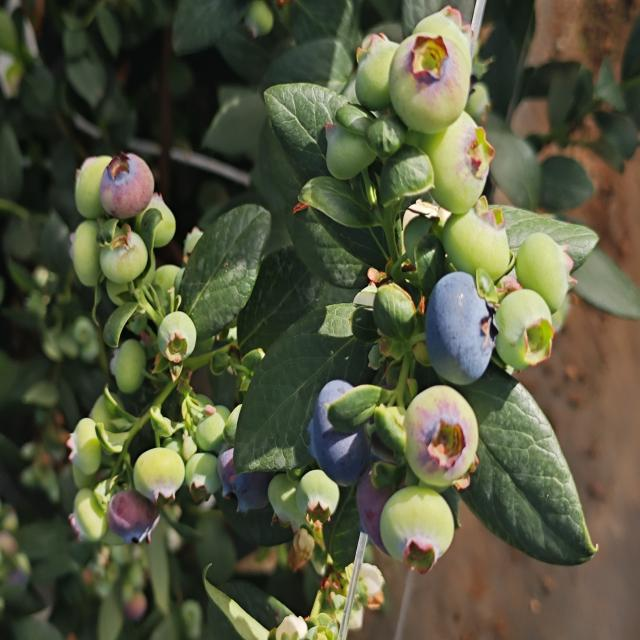ripe: (422, 269, 500, 388), (306, 377, 372, 488), (213, 432, 285, 520)
